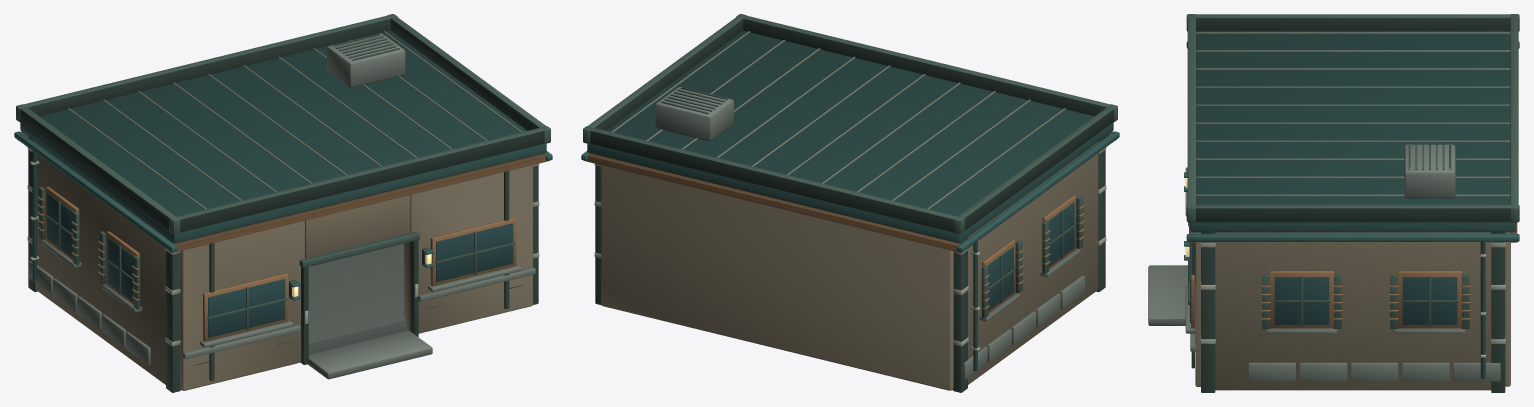
The model's file is kf-storage.glb.
3 renders of one model, left to right at view 1: azimuth 30°, elevation 25°; view 2: azimuth 150°, elevation 25°; view 3: azimuth 270°, elevation 25°, orthographic. The views are drawn at different scales.
Parts seen in each view (by area): view 1: Roof Roof metal, Shell Painted plaster, RoofDetail Timber trim, Shell Foundation, Shell Timber trim, Shell Window glass, Shell Warm wood, RoofDetail Brushed hardware, RoofDetail Foundation, Shell Roof metal, Shell Brushed hardware; view 2: Shell Painted plaster, Roof Roof metal, RoofDetail Timber trim, Shell Timber trim, Shell Warm wood, RoofDetail Brushed hardware, Shell Foundation, RoofDetail Foundation, Shell Roof metal, Shell Window glass, Shell Brushed hardware; view 3: Roof Roof metal, Shell Painted plaster, RoofDetail Timber trim, Shell Foundation, RoofDetail Brushed hardware, Shell Timber trim, Shell Window glass, Shell Roof metal, Shell Warm wood, RoofDetail Foundation, Shell Brushed hardware.
Boxes of the visible parts, x1=… form: Roof Roof metal: x1=20, y1=30, x2=546, y2=243; Shell Painted plaster: x1=35, y1=142, x2=532, y2=390; RoofDetail Timber trim: x1=16, y1=14, x2=550, y2=234; Shell Foundation: x1=29, y1=239, x2=535, y2=389; Shell Timber trim: x1=28, y1=137, x2=538, y2=392; Shell Window glass: x1=47, y1=193, x2=513, y2=337; Shell Warm wood: x1=17, y1=132, x2=549, y2=341; RoofDetail Brushed hardware: x1=68, y1=31, x2=522, y2=209; RoofDetail Foundation: x1=327, y1=33, x2=405, y2=87; Shell Roof metal: x1=14, y1=131, x2=552, y2=300; Shell Brushed hardware: x1=27, y1=147, x2=539, y2=346; Shell Painted plaster: x1=601, y1=142, x2=1098, y2=390; Roof Roof metal: x1=587, y1=30, x2=1113, y2=243; RoofDetail Timber trim: x1=583, y1=14, x2=1117, y2=234; Shell Timber trim: x1=595, y1=137, x2=1105, y2=392; Shell Warm wood: x1=583, y1=132, x2=1116, y2=313; RoofDetail Brushed hardware: x1=611, y1=31, x2=1065, y2=209; Shell Foundation: x1=952, y1=248, x2=1084, y2=389; RoofDetail Foundation: x1=655, y1=87, x2=733, y2=140; Shell Roof metal: x1=581, y1=131, x2=1119, y2=371; Shell Window glass: x1=988, y1=202, x2=1074, y2=310; Shell Brushed hardware: x1=594, y1=147, x2=1106, y2=350; Roof Roof metal: x1=1190, y1=30, x2=1516, y2=232; Shell Painted plaster: x1=1195, y1=232, x2=1510, y2=390; RoofDetail Timber trim: x1=1186, y1=14, x2=1519, y2=222; Shell Foundation: x1=1148, y1=167, x2=1500, y2=381; RoofDetail Brushed hardware: x1=1196, y1=32, x2=1510, y2=196; Shell Timber trim: x1=1188, y1=223, x2=1505, y2=392; Shell Window glass: x1=1190, y1=242, x2=1457, y2=324; Shell Roof metal: x1=1184, y1=41, x2=1519, y2=378; Shell Warm wood: x1=1189, y1=222, x2=1517, y2=328; RoofDetail Foundation: x1=1404, y1=144, x2=1455, y2=198; Shell Brushed hardware: x1=1188, y1=222, x2=1505, y2=357.
Bounding box in the file's own units: 10.88 × 5.31 × 8.7.
